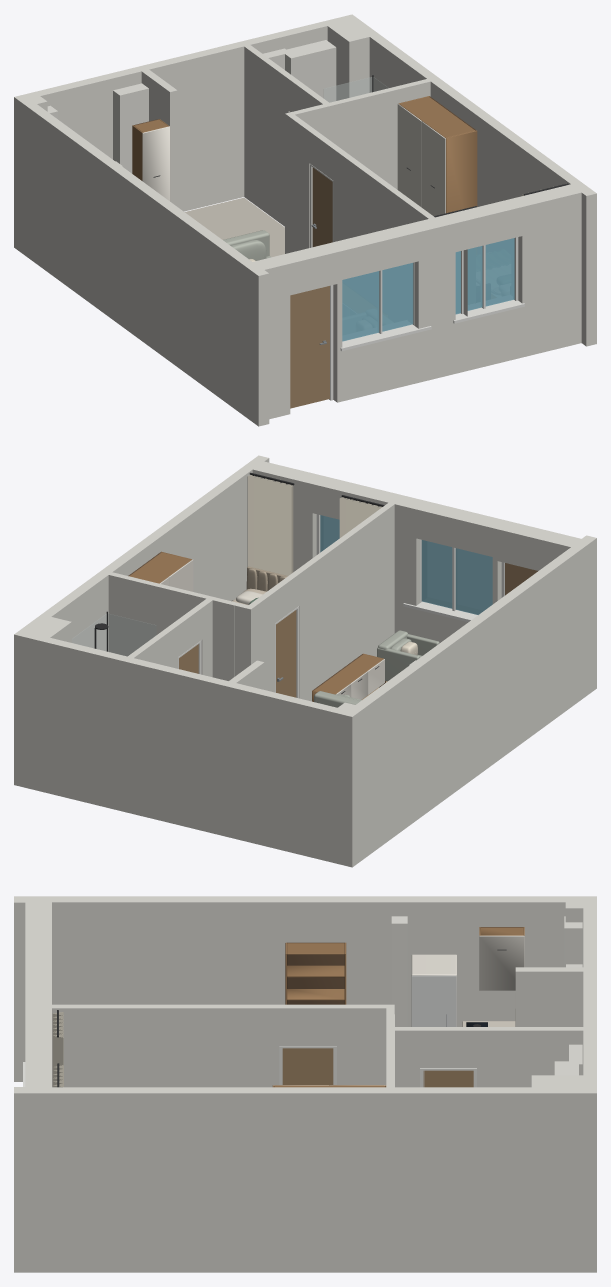
File: oursv11b_39.glb
3 views of the same model, one above another, from view 1: azimuth 30°, elevation 25°; view 2: azimuth 150°, elevation 25°; view 3: azimuth 270°, elevation 25° (orthographic). The views are drawn at different scales.
Visible parts, largest first — view 1: wall|high_quality_architectural_12575_F1_scaled|apt0, wall|high_quality_architectural_12575_F1_scaled|apt14 Windo., Appliance enclosure, wall|high_quality_architectural_12575_F1_scaled|apt0 Door 0 , high_quality_architectural_12575_F1_scaled__R01_10 | source , Bay divider, wall|high_quality_architectural_12575_F1_scaled|apt0 Door 0, floor|high_quality_architectural_12575_F1_scaled__R02, Back upholstered shell.001, Rear glass; view 2: wall|high_quality_architectural_12575_F1_scaled|apt0, Gathered curtain, wall|high_quality_architectural_12575_F1_scaled|apt14 Windo., wall|high_quality_architectural_12575_F1_scaled|apt0 Door 0 , Rear glass, Bay divider, Back upholstered shell.001, wall|high_quality_architectural_12575_F1_scaled|apt0 Door 0, Appliance enclosure, V2 padded headboard backing; view 3: wall|high_quality_architectural_12575_F1_scaled|apt0, Appliance enclosure, high_quality_architectural_12575_F1_scaled__R01_10 | source , Bay divider, wall|high_quality_architectural_12575_F1_scaled|apt0 Door 0 , Freezer drawer, Carcass back, wall|high_quality_architectural_12575_F1_scaled|apt0 Door 0, Gathered curtain.
Part boxes in pixels (bbox=[...]): wall|high_quality_architectural_12575_F1_scaled|apt0: bbox=[14, 14, 596, 426]; wall|high_quality_architectural_12575_F1_scaled|apt14 Windo.: bbox=[342, 238, 514, 341]; Appliance enclosure: bbox=[142, 103, 445, 216]; wall|high_quality_architectural_12575_F1_scaled|apt0 Door 0 : bbox=[290, 167, 332, 408]; high_quality_architectural_12575_F1_scaled__R01_10 | source : bbox=[47, 40, 336, 173]; Bay divider: bbox=[132, 96, 477, 213]; wall|high_quality_architectural_12575_F1_scaled|apt0 Door 0: bbox=[289, 111, 524, 400]; floor|high_quality_architectural_12575_F1_scaled__R02: bbox=[185, 197, 284, 257]; Back upholstered shell.001: bbox=[223, 230, 270, 260]; Rear glass: bbox=[324, 77, 387, 102]; wall|high_quality_architectural_12575_F1_scaled|apt0: bbox=[14, 455, 596, 867]; Gathered curtain: bbox=[247, 475, 382, 575]; wall|high_quality_architectural_12575_F1_scaled|apt14 Windo.: bbox=[320, 515, 492, 614]; wall|high_quality_architectural_12575_F1_scaled|apt0 Door 0 : bbox=[179, 563, 537, 697]; Rear glass: bbox=[72, 613, 156, 656]; Bay divider: bbox=[129, 551, 383, 701]; Back upholstered shell.001: bbox=[314, 630, 439, 707]; wall|high_quality_architectural_12575_F1_scaled|apt0 Door 0: bbox=[178, 514, 504, 698]; Appliance enclosure: bbox=[160, 559, 384, 699]; V2 padded headboard backing: bbox=[246, 566, 287, 591]; wall|high_quality_architectural_12575_F1_scaled|apt0: bbox=[14, 896, 596, 1272]; Appliance enclosure: bbox=[273, 935, 524, 1085]; high_quality_architectural_12575_F1_scaled__R01_10 | source : bbox=[391, 916, 582, 1075]; Bay divider: bbox=[272, 927, 524, 1087]; wall|high_quality_architectural_12575_F1_scaled|apt0 Door 0 : bbox=[282, 1048, 473, 1087]; Freezer drawer: bbox=[411, 975, 456, 1026]; Carcass back: bbox=[287, 927, 523, 1004]; wall|high_quality_architectural_12575_F1_scaled|apt0 Door 0: bbox=[23, 1046, 476, 1087]; Gathered curtain: bbox=[52, 1012, 63, 1087].
Size of the model in its own units: 6.12 by 2.61 by 7.67.
